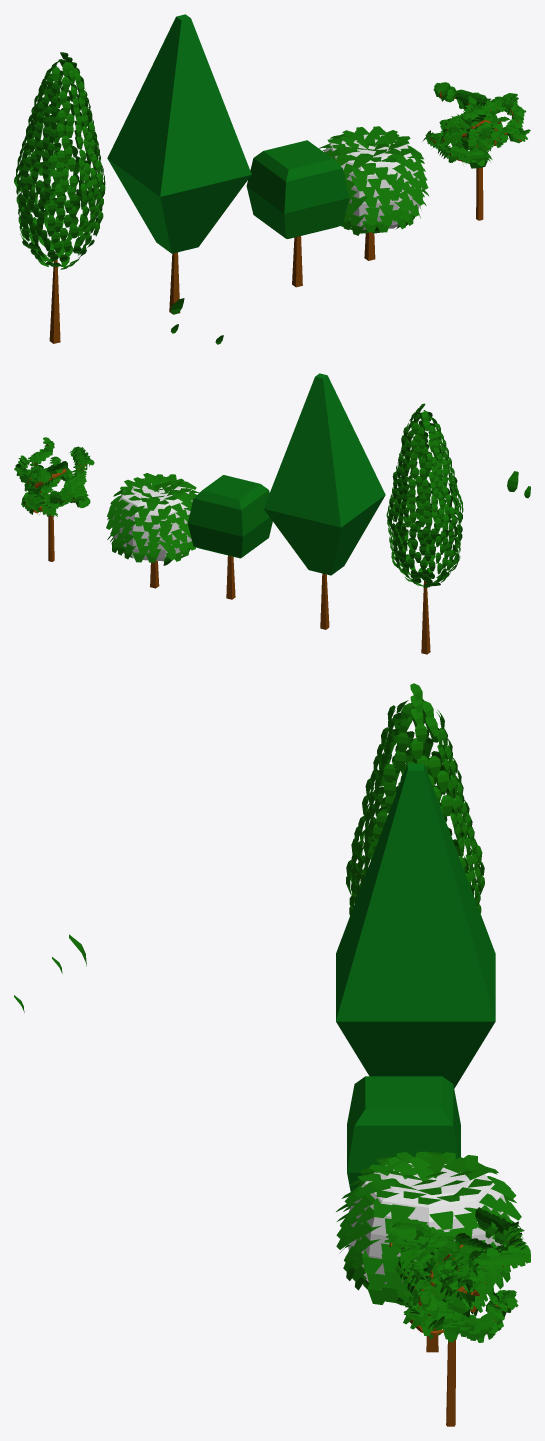
File: trees.fbx
3 views of the same model, one above another, from view 1: azimuth 30°, elevation 25°; view 2: azimuth 150°, elevation 25°; view 3: azimuth 270°, elevation 25° (orthographic). The views are drawn at different scales.
Parts seen in each view (by area): view 1: tree 3 leaves low ploy, tree 3 leaves, TREE 2 LEAVES, low poly tree 2 leaves, TREE 1, TREE 2 STUMP.002, TREE 2 STUMP.001, TREE 2 STUMP.003; view 2: tree 3 leaves low ploy, tree 3 leaves, TREE 2 LEAVES, low poly tree 2 leaves, TREE 1, TREE 2 STUMP.002, TREE 2 STUMP.003, TREE 2 STUMP.001; view 3: tree 3 leaves low ploy, TREE 2 LEAVES, TREE 1, tree 3 leaves, low poly tree 2 leaves.
Part boxes in pixels (box(x1,y1,x2,y2)): tree 3 leaves low ploy: box(107, 14, 251, 253); tree 3 leaves: box(14, 52, 105, 269); TREE 2 LEAVES: box(319, 126, 428, 235); low poly tree 2 leaves: box(246, 140, 349, 238); TREE 1: box(422, 82, 530, 220); TREE 2 STUMP.002: box(49, 259, 60, 343); TREE 2 STUMP.001: box(292, 236, 302, 287); TREE 2 STUMP.003: box(169, 252, 180, 314); tree 3 leaves low ploy: box(263, 373, 385, 575); tree 3 leaves: box(386, 403, 463, 587); TREE 2 LEAVES: box(106, 473, 198, 565); low poly tree 2 leaves: box(187, 475, 272, 558); TREE 1: box(14, 437, 94, 561); TREE 2 STUMP.002: box(421, 581, 430, 654); TREE 2 STUMP.003: box(320, 573, 329, 629); TREE 2 STUMP.001: box(226, 555, 235, 599); tree 3 leaves low ploy: box(336, 763, 495, 1088); TREE 2 LEAVES: box(336, 1151, 521, 1307); TREE 1: box(384, 1207, 530, 1426); tree 3 leaves: box(346, 683, 484, 915); low poly tree 2 leaves: box(347, 1076, 460, 1191).
Bounding box in the file's own units: 6621 × 3661 × 3848.
